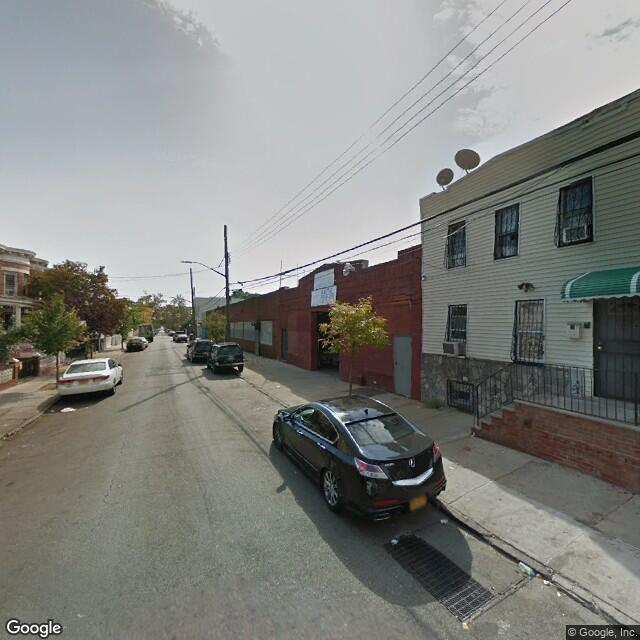litter: (517, 562, 535, 578), (387, 535, 400, 546), (462, 618, 475, 629), (554, 587, 565, 596), (438, 518, 450, 526), (62, 407, 72, 414), (544, 579, 551, 586), (48, 407, 56, 410)
